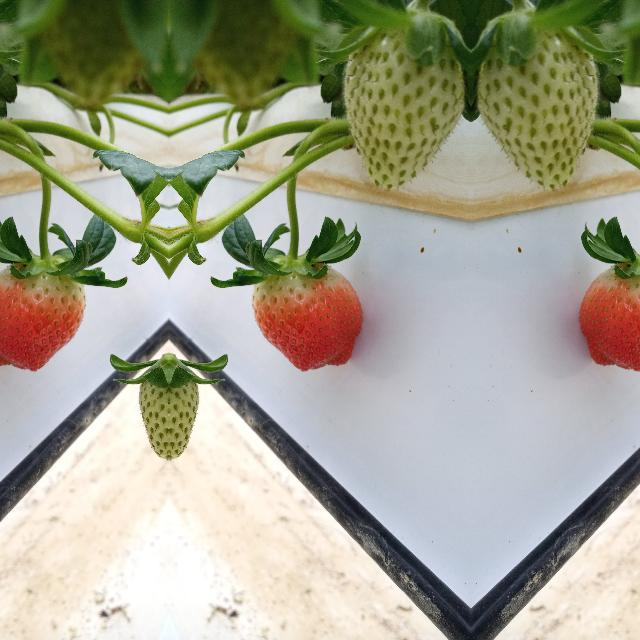Health_100: (252, 264, 362, 372), (0, 263, 84, 372), (578, 263, 640, 372)
Health_25: (338, 9, 460, 200), (481, 9, 603, 200)
